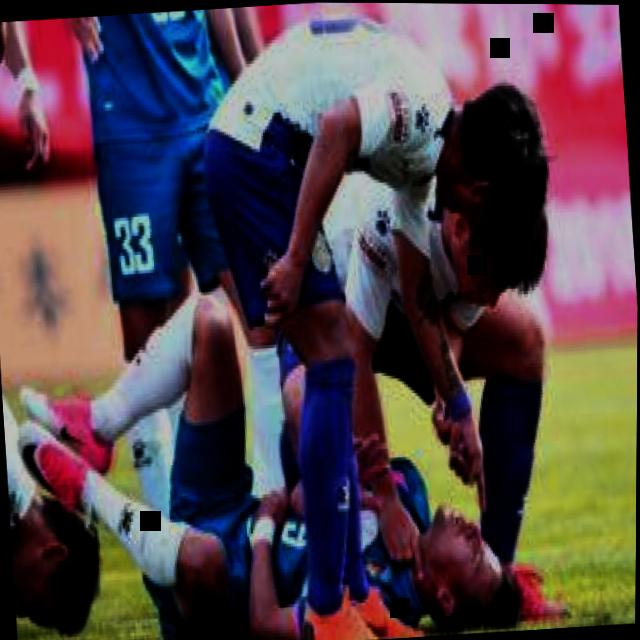Fall-Detected: (0, 304, 112, 640)
